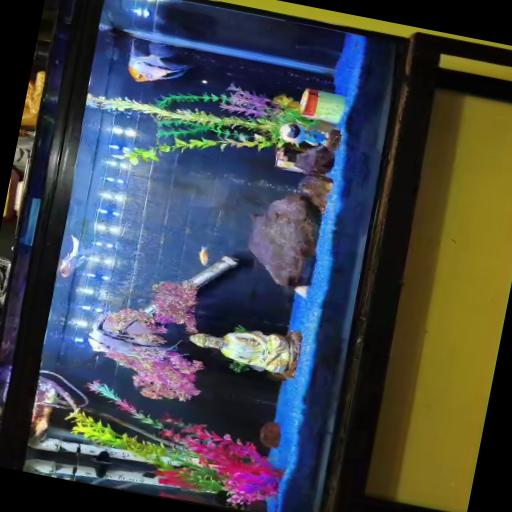Fish: (129, 41, 193, 82), (60, 235, 86, 277), (199, 247, 209, 265)
